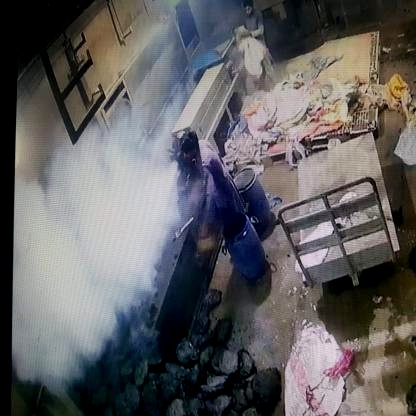smoke: (17, 131, 165, 346)
